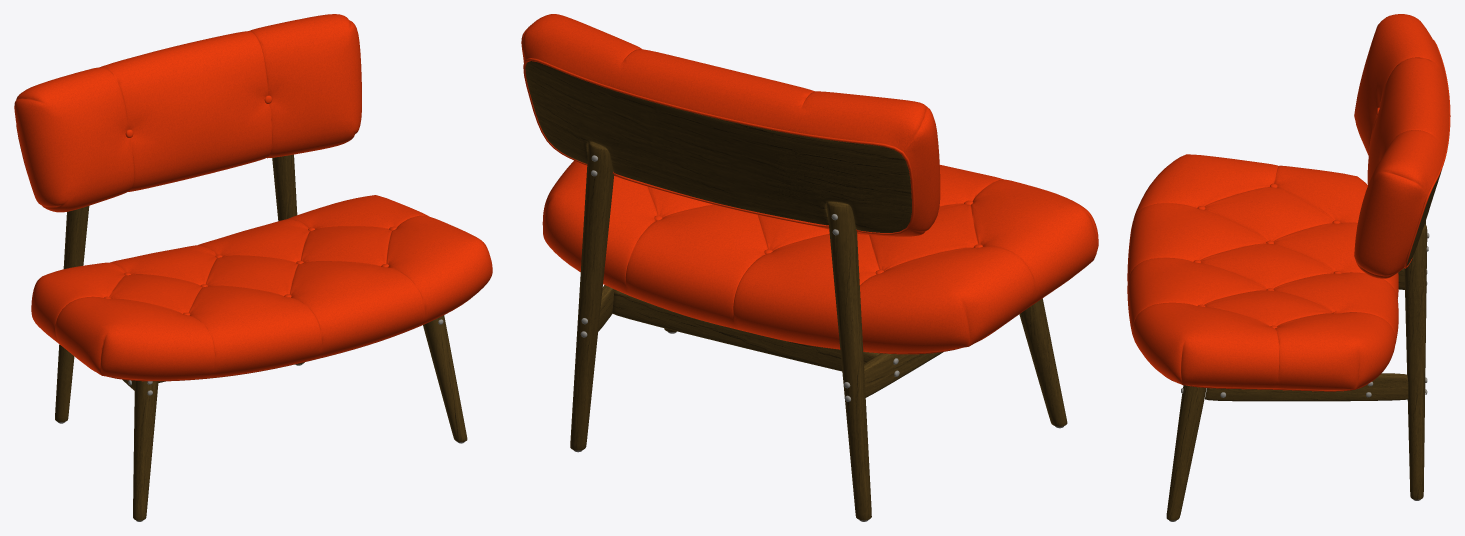
Rendered from SheenChair.glb.
3 views of the same model, side by side, from view 1: azimuth 30°, elevation 25°; view 2: azimuth 150°, elevation 25°; view 3: azimuth 270°, elevation 25° (orthographic). The views are drawn at different scales.
Visible parts, largest first — view 1: SheenChair_fabric, SheenChair_wood; view 2: SheenChair_fabric, SheenChair_wood; view 3: SheenChair_fabric, SheenChair_wood.
Part boxes in pixels (x1,y1,x2,y2): SheenChair_fabric: (14, 14, 492, 381); SheenChair_wood: (55, 154, 467, 520); SheenChair_fabric: (521, 14, 1098, 354); SheenChair_wood: (525, 61, 1067, 520); SheenChair_fabric: (1127, 14, 1450, 391); SheenChair_wood: (1166, 170, 1441, 520).
Size of the model in its own units: 0.8266 by 0.6862 by 0.5703.
Materials: 4 (3 with a texture image).
